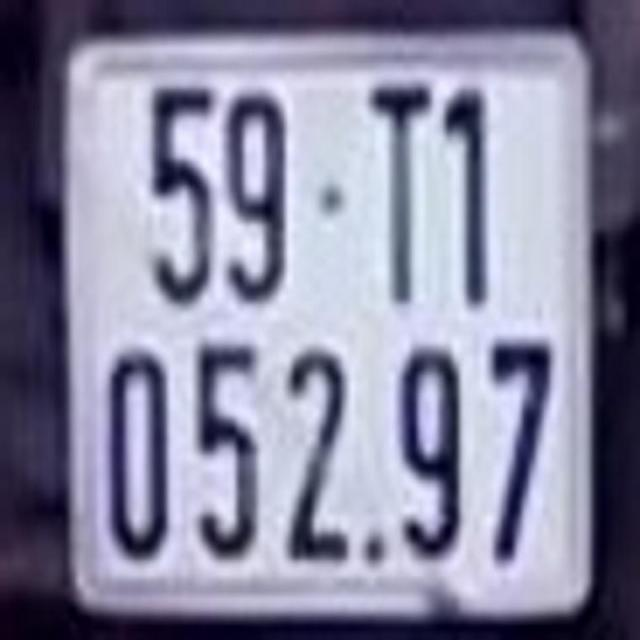0: (106, 352, 175, 560)
1: (440, 84, 494, 300)
2: (286, 344, 350, 559)
5: (150, 84, 215, 300), (194, 343, 257, 556)
7: (487, 344, 552, 561)
9: (395, 346, 463, 553), (226, 92, 288, 300)
T: (370, 85, 427, 302)
